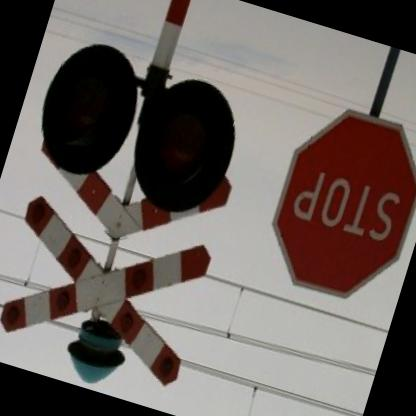stop: (253, 98, 415, 317)
